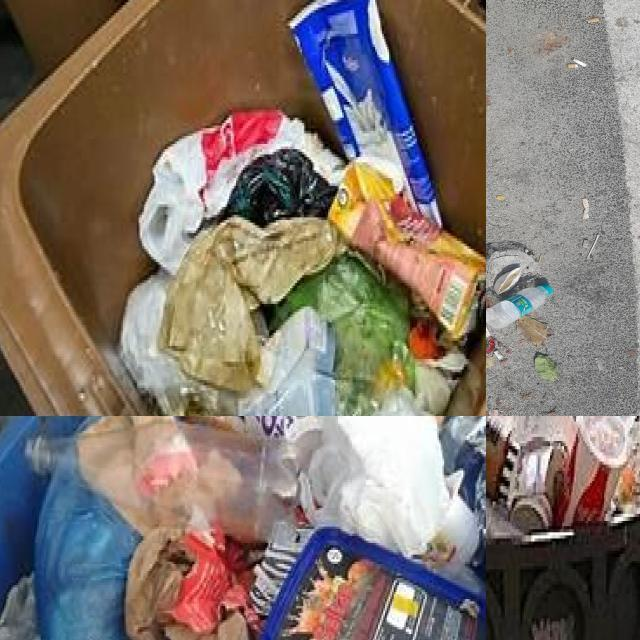Background: (486, 0, 640, 416)
Cig_bud: (571, 58, 587, 67), (595, 357, 604, 371), (494, 350, 504, 360), (584, 17, 600, 23), (582, 239, 589, 248), (568, 63, 579, 68)
Disposable: (555, 416, 629, 525)
Garbage: (120, 0, 486, 416), (0, 416, 486, 640), (486, 416, 640, 539)
Plastic: (588, 238, 598, 255)
Plastic_Bag: (139, 108, 343, 273), (161, 217, 344, 390), (267, 255, 414, 416), (34, 455, 142, 640), (120, 271, 238, 416), (238, 306, 334, 416), (225, 148, 337, 227)
Plastic_Container: (260, 524, 486, 640)
Plastic_bottle: (25, 419, 303, 549), (486, 284, 553, 328)
Plastic_wraper: (169, 527, 253, 636), (434, 416, 486, 565), (486, 410, 499, 416)
